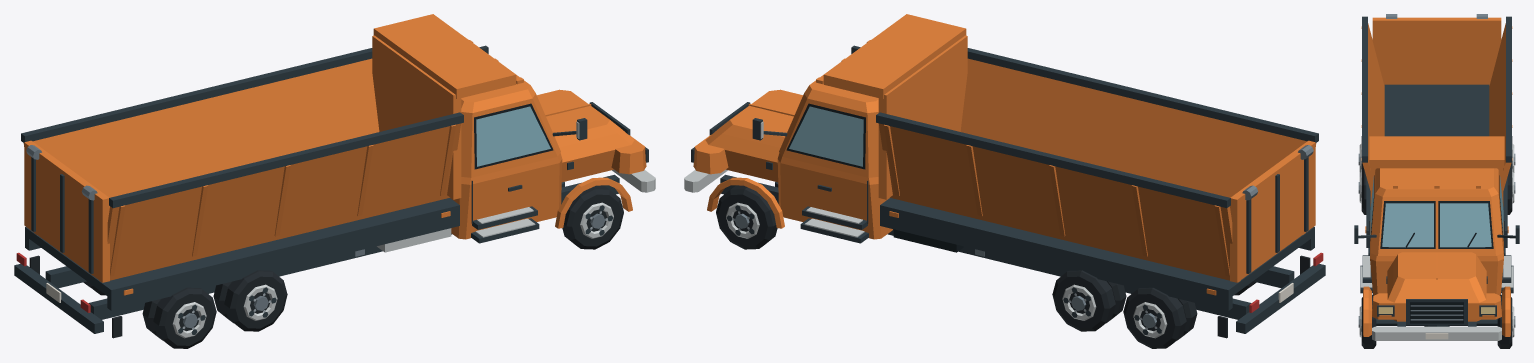
Rendered from b15_municipal_dump_truck.glb.
The picture shows the model from 3 angles, left to right: view 1: azimuth 30°, elevation 25°; view 2: azimuth 150°, elevation 25°; view 3: azimuth 270°, elevation 25°; orthographic projection. The views are drawn at different scales.
Parts seen in each view (by area): view 1: b15_municipal_dump_truck; view 2: b15_municipal_dump_truck; view 3: b15_municipal_dump_truck.
Boxes of the visible parts, x1,y1,x2,y2 form: b15_municipal_dump_truck: (14,14,655,348); b15_municipal_dump_truck: (684,14,1325,348); b15_municipal_dump_truck: (1354,14,1519,348).
Bounding box in the file's own units: 9.43 × 3.04 × 2.92.
